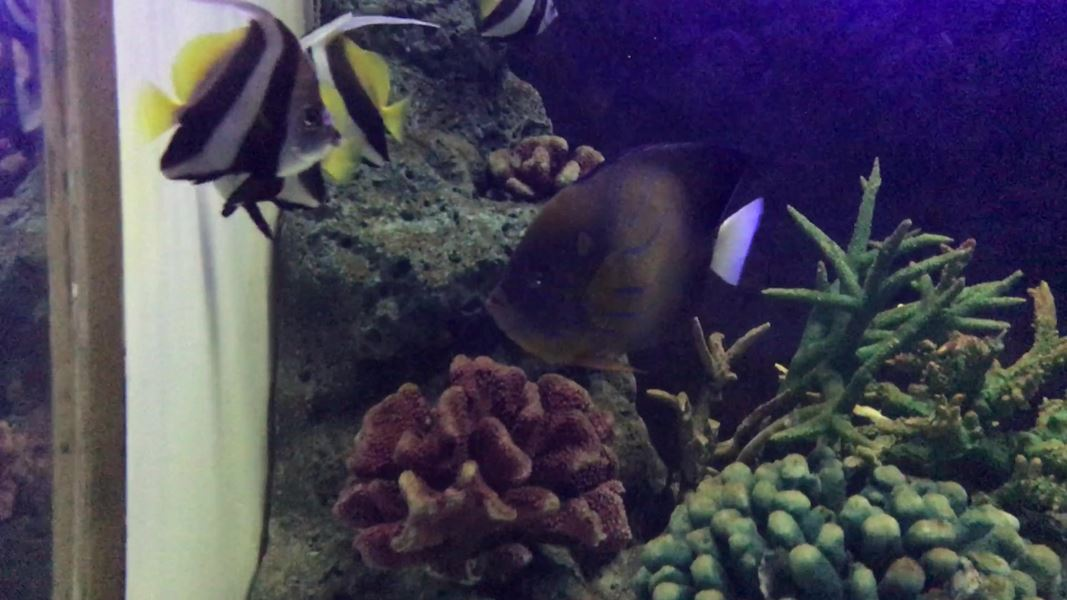Blue ring angelfish: (469, 129, 787, 392)
